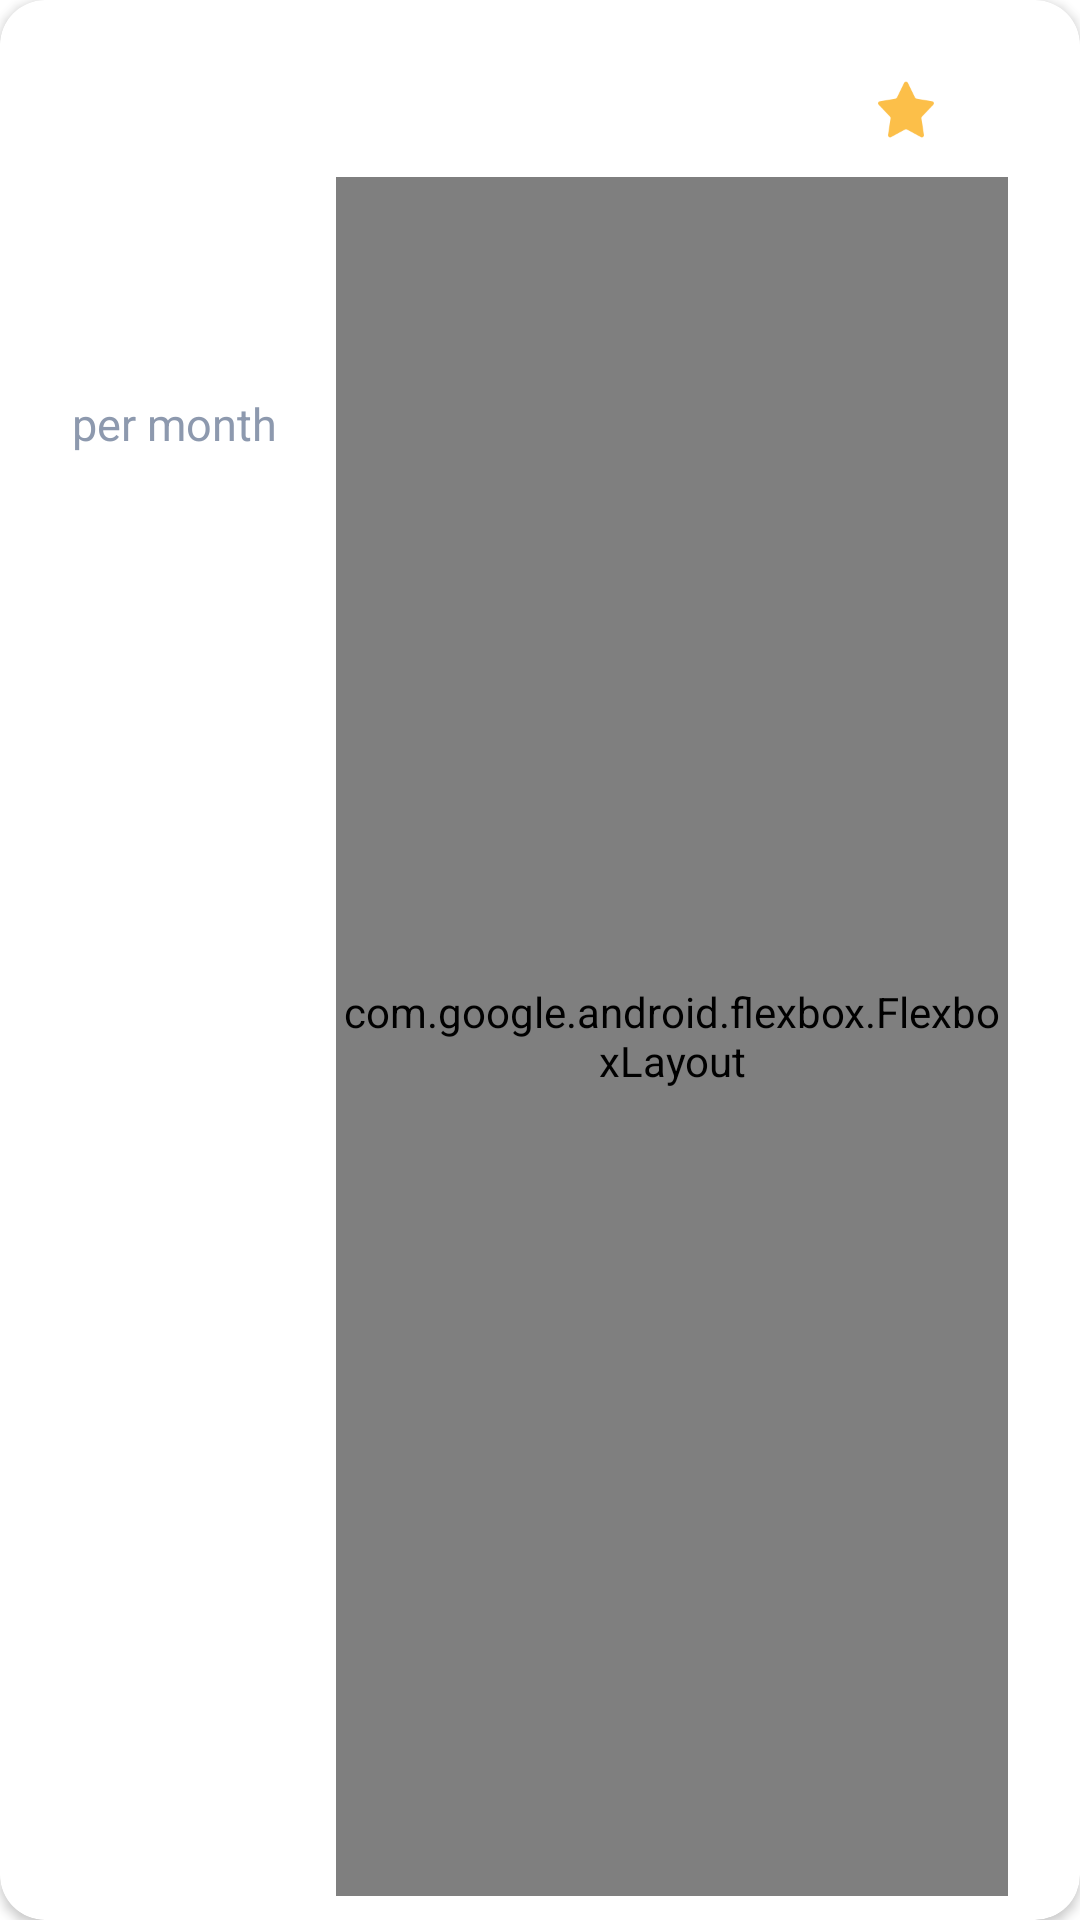

Where to tap for icons on this 1080px x 1920px app screen, as point (x, y):
star: point (906, 109)
